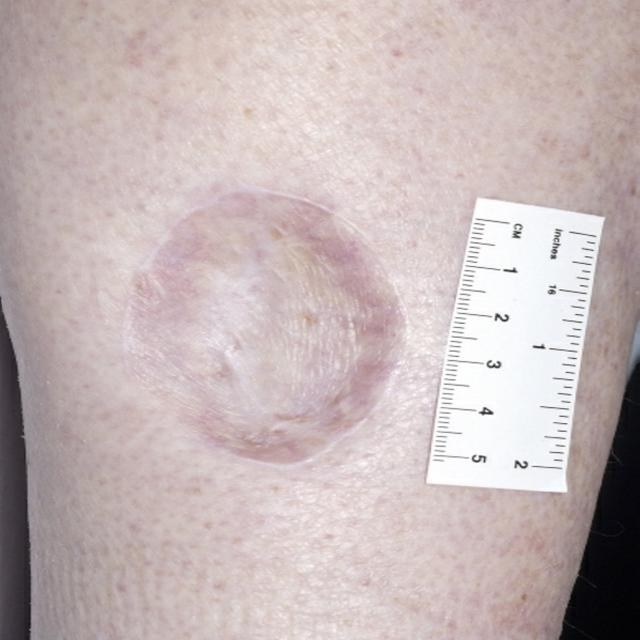wound: (120, 186, 407, 466)
